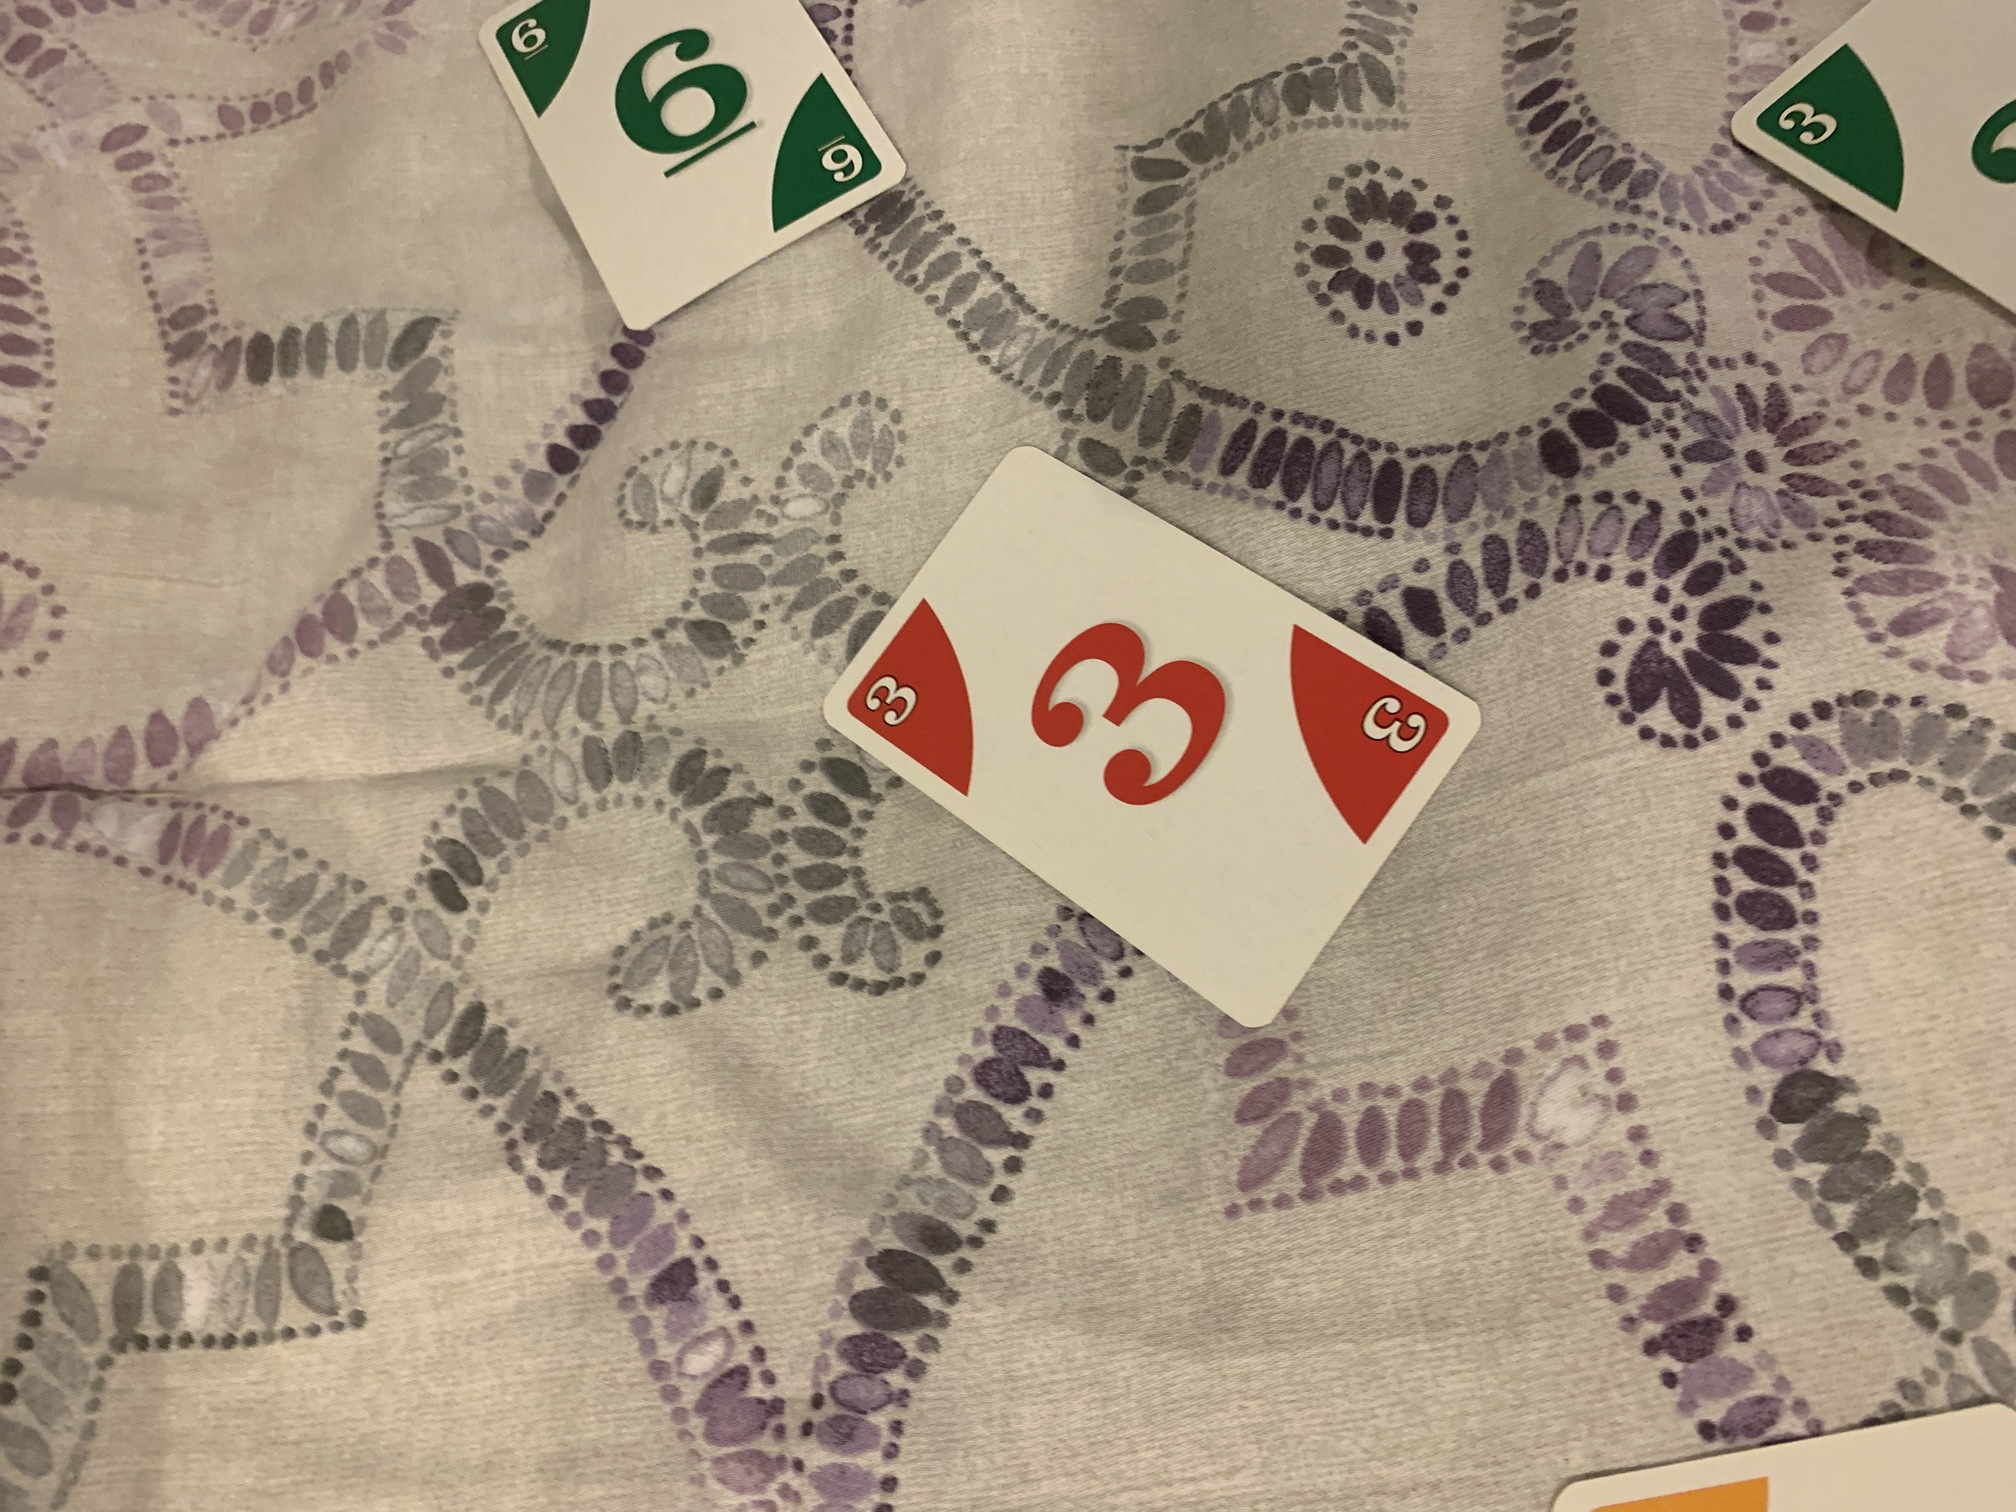six: (468, 2, 918, 359)
three: (810, 434, 1495, 1039)
